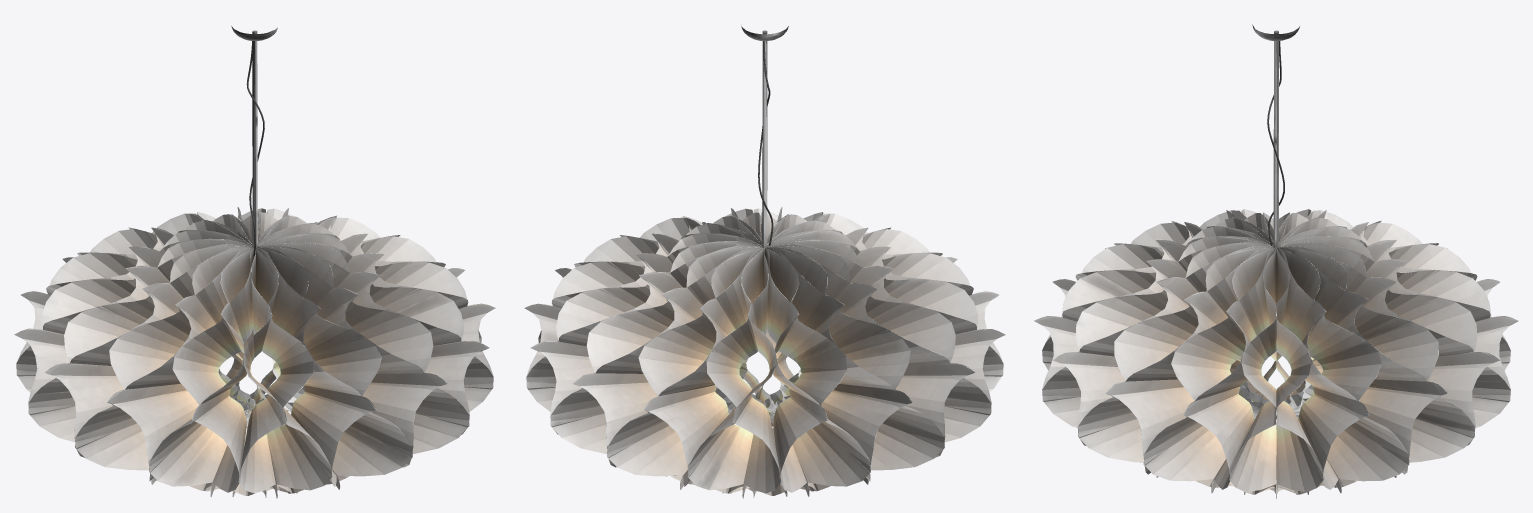
File: 3df_lamp.glb
3 views of the same model, side by side, from view 1: azimuth 30°, elevation 25°; view 2: azimuth 150°, elevation 25°; view 3: azimuth 270°, elevation 25° (orthographic).
Visible parts, largest first — view 1: Lighting_7be78e99-5ace-466f-84bf-e4509dabebb3_3.obj; view 2: Lighting_7be78e99-5ace-466f-84bf-e4509dabebb3_3.obj; view 3: Lighting_7be78e99-5ace-466f-84bf-e4509dabebb3_3.obj.
Boxes of the visible parts, <box> form: Lighting_7be78e99-5ace-466f-84bf-e4509dabebb3_3.obj: <box>14,26,495,498</box>; Lighting_7be78e99-5ace-466f-84bf-e4509dabebb3_3.obj: <box>524,26,1005,498</box>; Lighting_7be78e99-5ace-466f-84bf-e4509dabebb3_3.obj: <box>1034,24,1518,498</box>.
Bounding box in the file's own units: 0.3986 × 0.3981 × 0.3986.
1 material, 1 textured.
